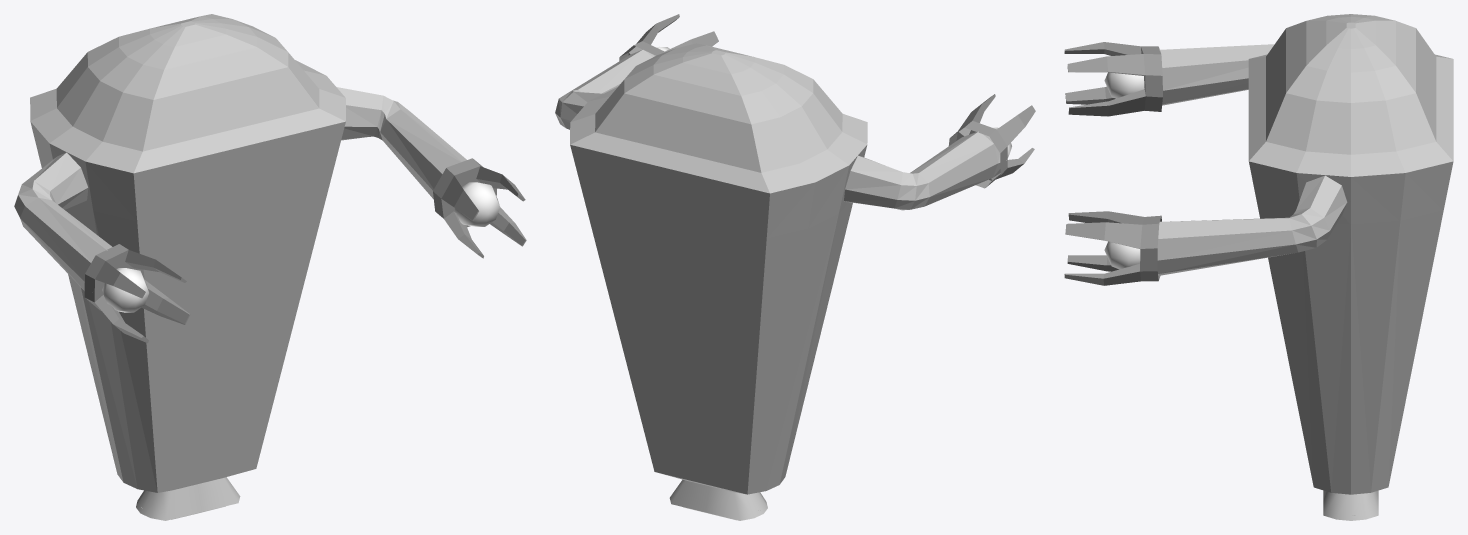
File: Robot_1.FBX
3 views of the same model, side by side, from view 1: azimuth 30°, elevation 25°; view 2: azimuth 150°, elevation 25°; view 3: azimuth 270°, elevation 25° (orthographic). The views are drawn at different scales.
Parts seen in each view (by area): view 1: Robot_1, HAnd001, HAnd, Emission_Ball, Emission_Ball001; view 2: Robot_1, HAnd001, HAnd; view 3: Robot_1, HAnd001, HAnd, Emission_Ball001, Emission_Ball.
Boxes of the visible parts, x1,y1,x2,y2 form: Robot_1: [14, 14, 466, 520]; HAnd001: [84, 244, 190, 343]; HAnd: [433, 158, 526, 258]; Emission_Ball: [454, 182, 500, 226]; Emission_Ball001: [102, 268, 148, 312]; Robot_1: [555, 43, 1006, 520]; HAnd001: [948, 94, 1035, 188]; HAnd: [619, 14, 718, 60]; Robot_1: [1157, 14, 1453, 520]; HAnd001: [1064, 42, 1162, 116]; HAnd: [1064, 211, 1161, 285]; Emission_Ball001: [1104, 72, 1144, 98]; Emission_Ball: [1104, 241, 1140, 269].
Bounding box in the file's own units: 14.54 × 16.65 × 12.24.
